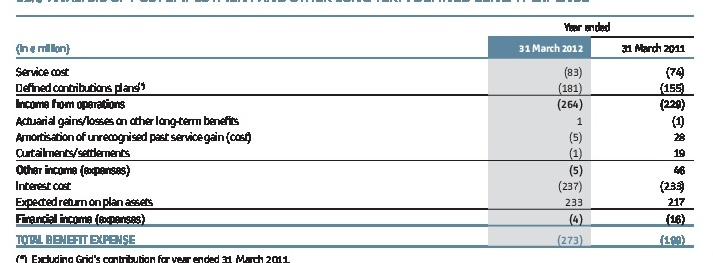table: (0, 0, 713, 263)
